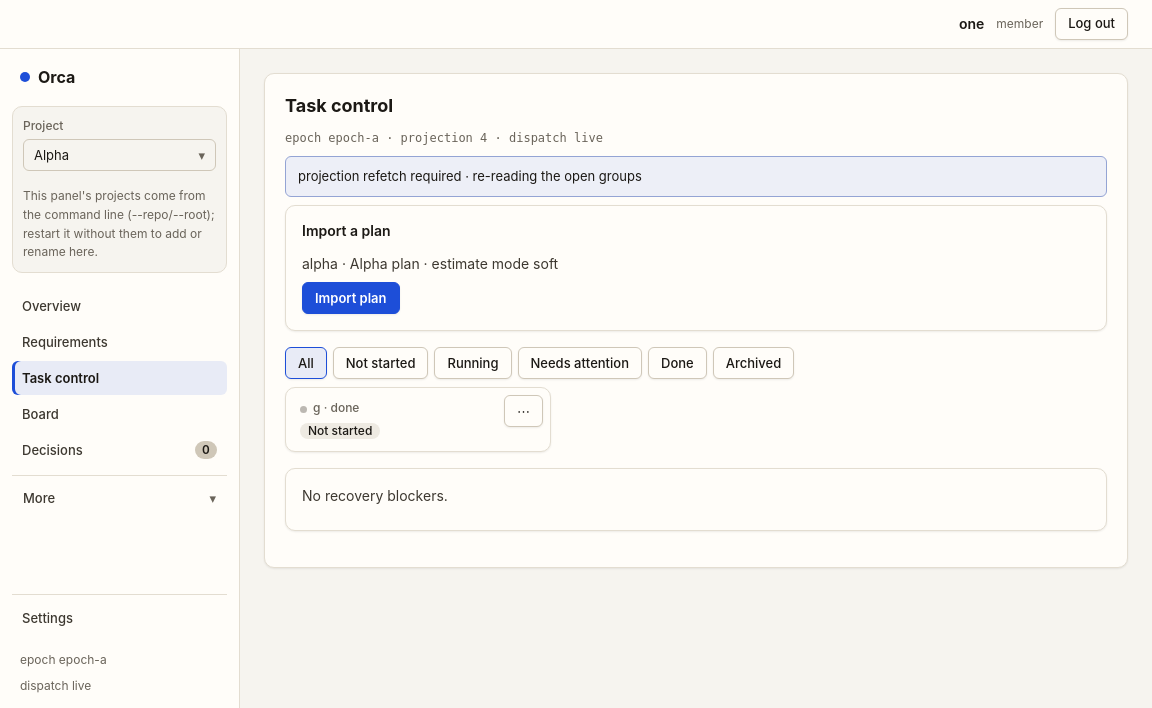
AuthGate logout removes active result owners and aborts held result reads
Click the button "g · done Not started": (340, 431) [285, 387, 551, 452]
Wait 2001 ms
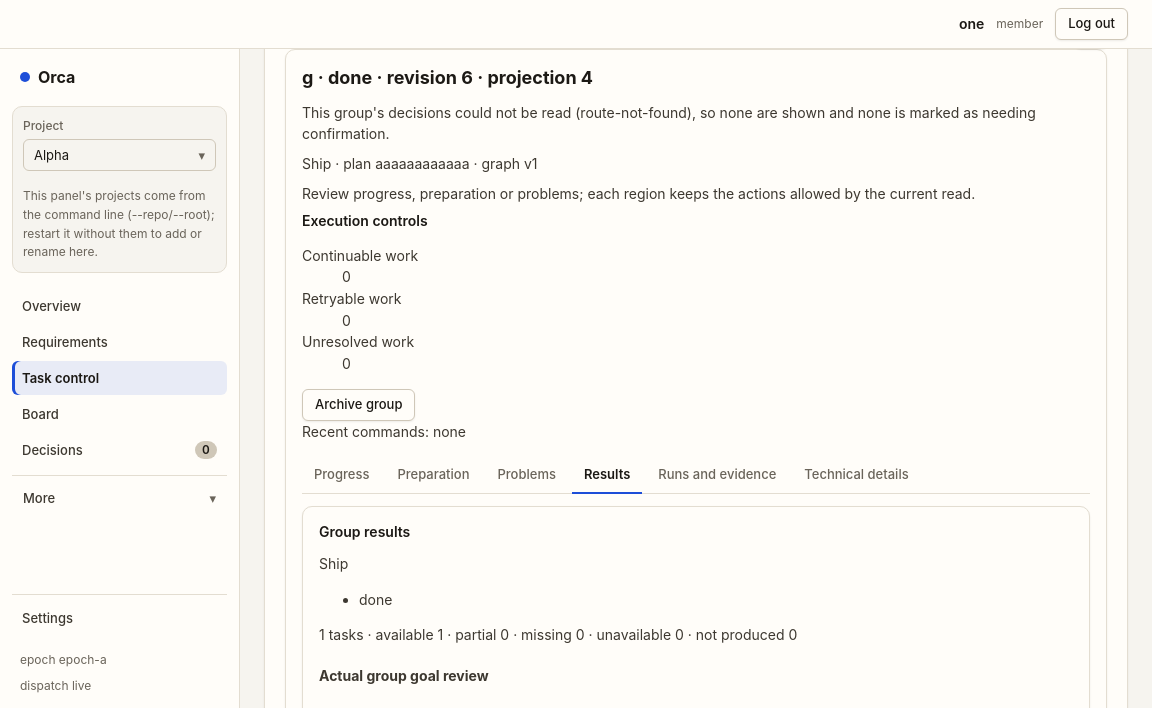
Click the button "Log out": (1092, 24) [1055, 8, 1128, 40]
Wait 1 ms
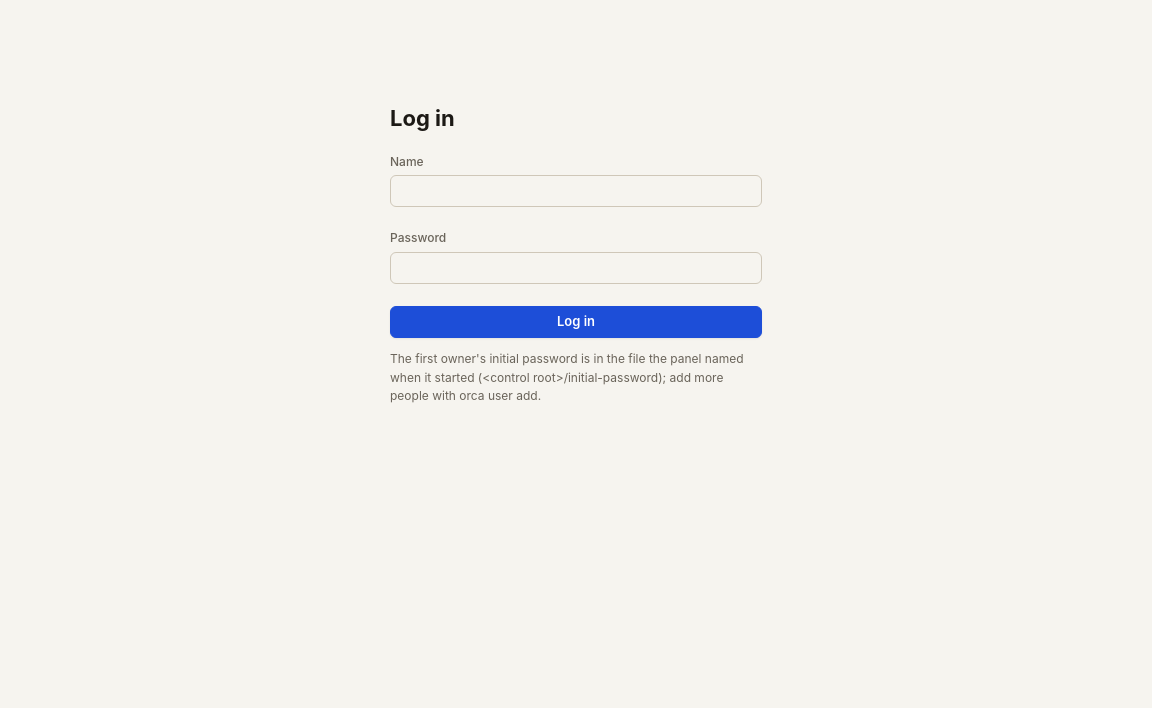
Check: the heading "Group results" is gone
Check: the button "Log in" is shown, box [390, 306, 762, 338]
